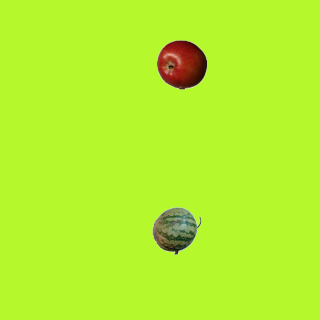Apple Braeburn: (156, 39, 206, 89)
Watermelon: (151, 205, 201, 255)
